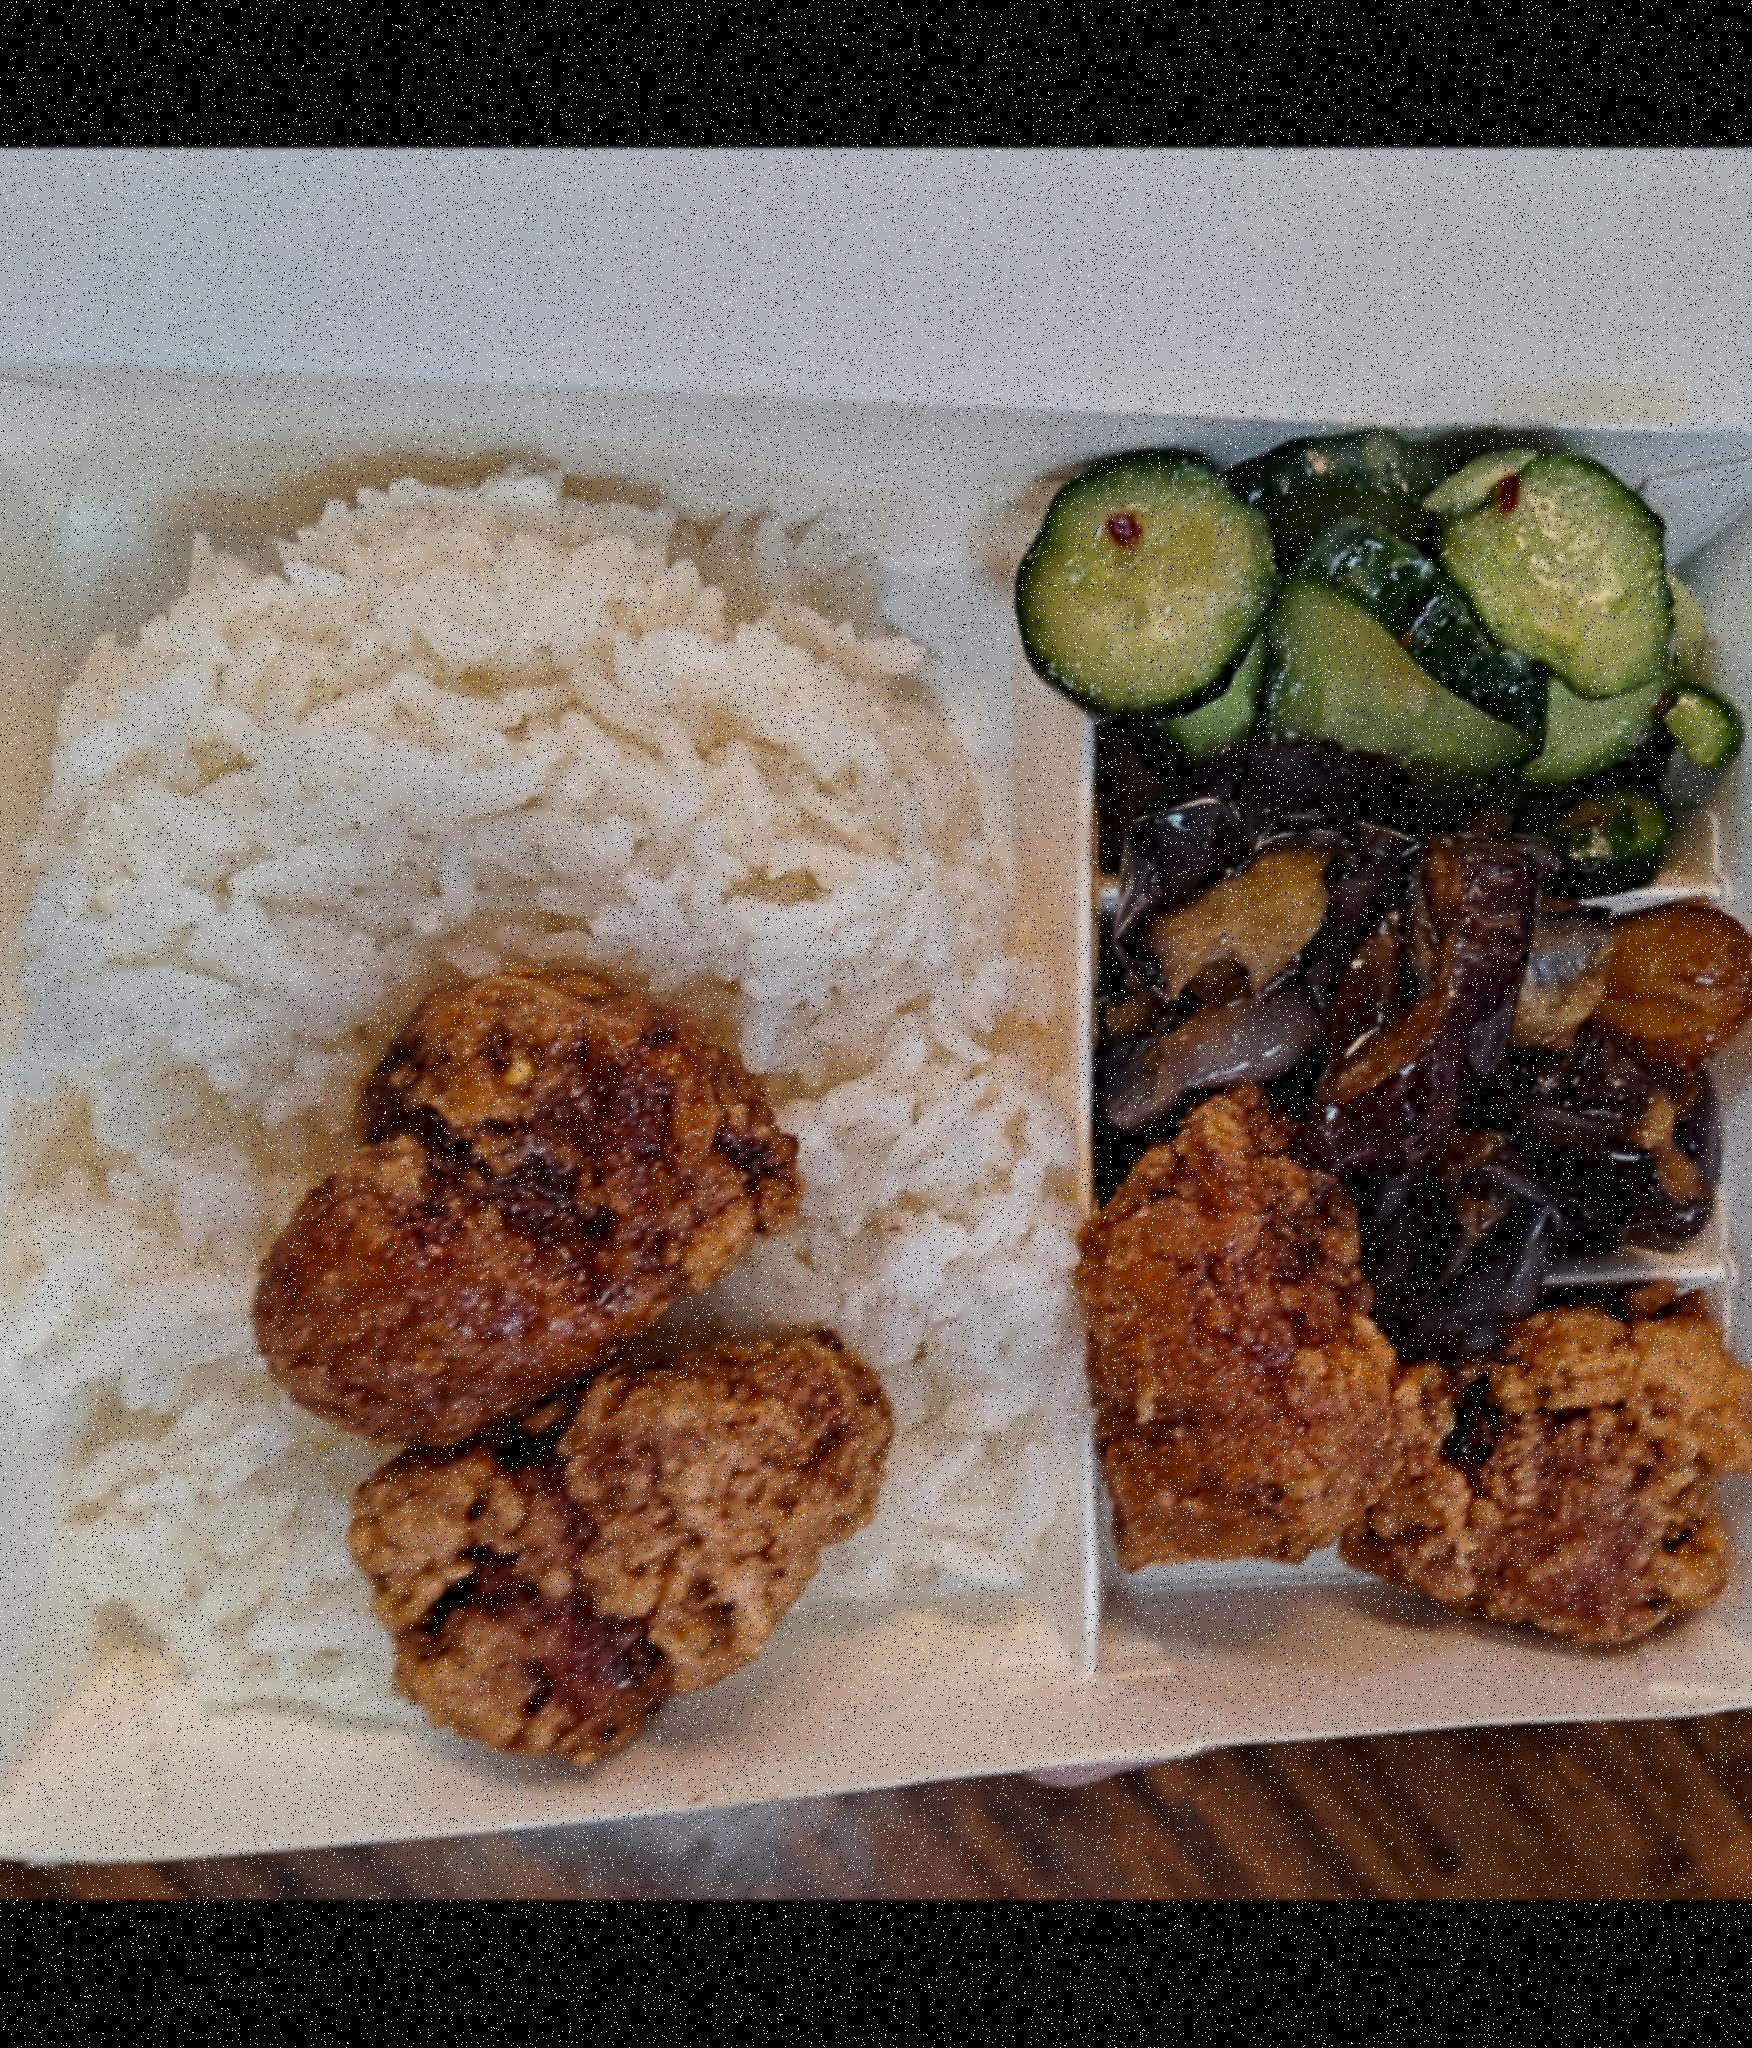big grilled chicken leg: (0, 323, 1752, 1900)
big herbal chicken leg: (0, 489, 1057, 1723)
braised fish fillet: (1092, 768, 1743, 1333), (1017, 447, 1745, 862)
braised pork: (285, 994, 1743, 1765)
